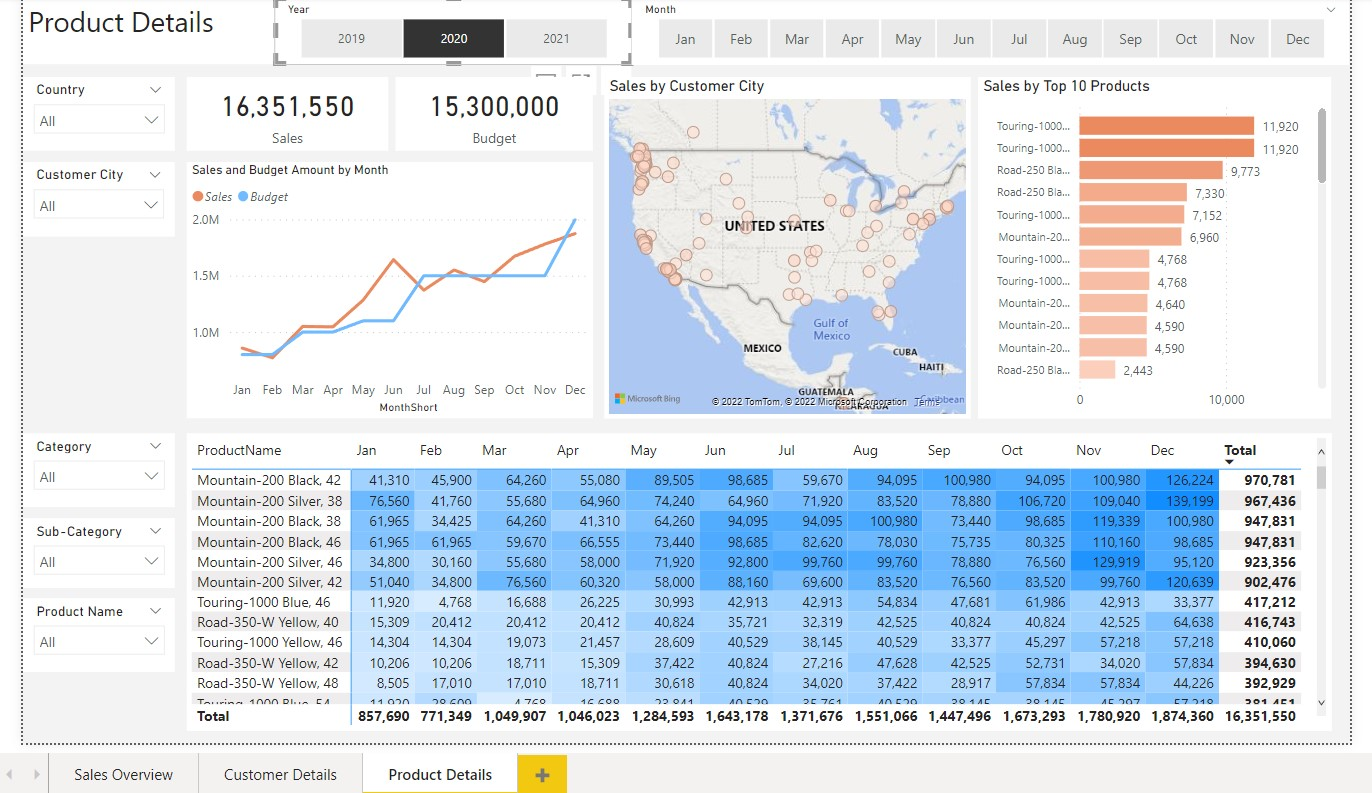

The page's visual inventory and layout, read from the dashboard file:
{"tool":"powerbi","page":{"name":"Product Details","canvas":[1280,720],"ordinal":2},"visuals":[{"type":"textbox","box":[0,0,1278.6,64.5],"z":0},{"type":"slicer","fields":{"Values":["DIM_Customer.CustomerCity"]},"box":[0,159.5,146.1,72.4],"z":1000},{"type":"slicer","fields":{"Values":["DIM_Products.Subcategory"]},"box":[0,502.6,146.5,67.2],"z":2000},{"type":"slicer","fields":{"Values":["DIM_Products.ProductCategory"]},"box":[0,421.2,146.5,71.2],"z":3000},{"type":"slicer","fields":{"Values":["DIM_Products.ProductName"]},"box":[0,580,146.5,71.2],"z":4000},{"type":"slicer","fields":{"Values":["DIM_Calendar.Year"]},"box":[242.4,0,344.9,65.1],"z":5000},{"type":"slicer","fields":{"Values":["DIM_Calendar.MonthShort"]},"box":[587.8,0,692.2,65.5],"z":6000},{"type":"barChart","title":"Sales by Top 10 Products","fields":{"Y":["FACT_InternetSales2.Sales"],"Category":["DIM_Products.ProductName"]},"box":[921.8,77.3,340.9,329.7],"z":7000},{"type":"pivotTable","fields":{"Columns":["DIM_Calendar.MonthShort"],"Values":["FACT_InternetSales2.Sales"],"Rows":["DIM_Products.ProductName"]},"box":[158.2,420.9,1104.4,286.8],"z":8000},{"type":"slicer","fields":{"Values":["DIM_Customer.Country"]},"box":[0,77.3,146.5,71.2],"z":9000},{"type":"map","title":"Sales by Customer City","fields":{"Category":["DIM_Customer.CustomerCity"]},"box":[560.3,77.7,353.8,329.7],"z":10000},{"type":"lineChart","title":"Sales and Budget Amount by Month","fields":{"Y":["FACT_InternetSales2.Sales","FACT_Budget.Budget Amount"],"Category":["DIM_Calendar.MonthShort"]},"box":[157.7,159.7,391.7,247.2],"z":11000},{"type":"card","fields":{"Values":["FACT_InternetSales2.Sales"]},"box":[158.2,77.7,194.3,71],"z":12000},{"type":"card","fields":{"Values":["FACT_Budget.Budget Amount"]},"box":[359.2,77.7,190.3,71],"z":13000}]}

Visuals, with their boxes on the page's 1280x720 design canvas (x1, y1, x2, y2). These are canvas units, not pixel positions in the 1372x793 screenshot, which may show the page scaled, cropped or inside an application window:
textbox: BBox(0, 0, 1279, 64)
slicer - DIM_Customer.CustomerCity: BBox(0, 160, 146, 232)
slicer - DIM_Products.Subcategory: BBox(0, 503, 146, 570)
slicer - DIM_Products.ProductCategory: BBox(0, 421, 146, 492)
slicer - DIM_Products.ProductName: BBox(0, 580, 146, 651)
slicer - DIM_Calendar.Year: BBox(242, 0, 587, 65)
slicer - DIM_Calendar.MonthShort: BBox(588, 0, 1280, 66)
"Sales by Top 10 Products" barChart: BBox(922, 77, 1263, 407)
pivotTable - DIM_Calendar.MonthShort x FACT_InternetSales2.Sales: BBox(158, 421, 1263, 708)
slicer - DIM_Customer.Country: BBox(0, 77, 146, 148)
"Sales by Customer City" map: BBox(560, 78, 914, 407)
"Sales and Budget Amount by Month" lineChart: BBox(158, 160, 549, 407)
card - FACT_InternetSales2.Sales: BBox(158, 78, 352, 149)
card - FACT_Budget.Budget Amount: BBox(359, 78, 550, 149)
